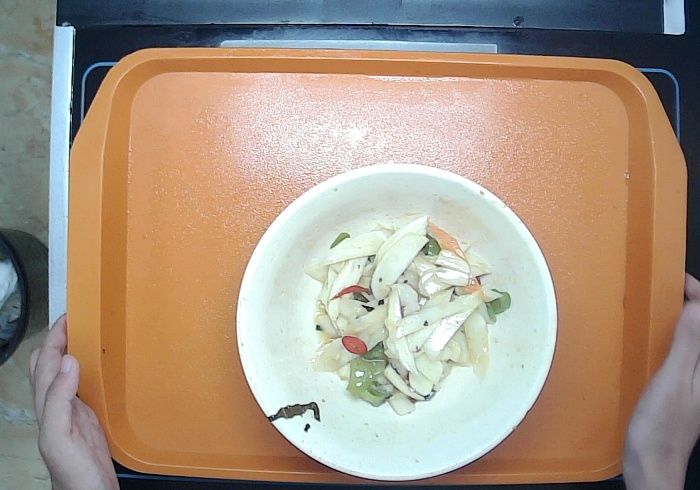ZNLD-Da_Tang_Wan: (234, 161, 560, 481)
